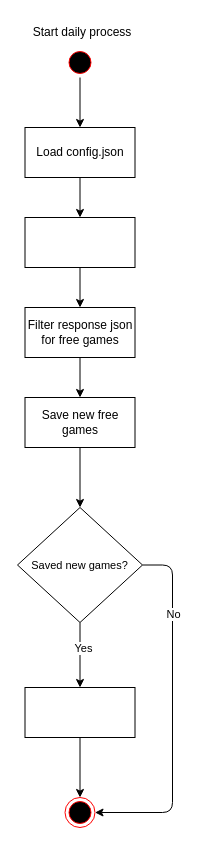
This 198x845 diagram has some shape labels left out. Each missing label, with the centre of its shape:
Create email with new games: pixel 79 712
Fetch ITAD API for new games: pixel 79 242
